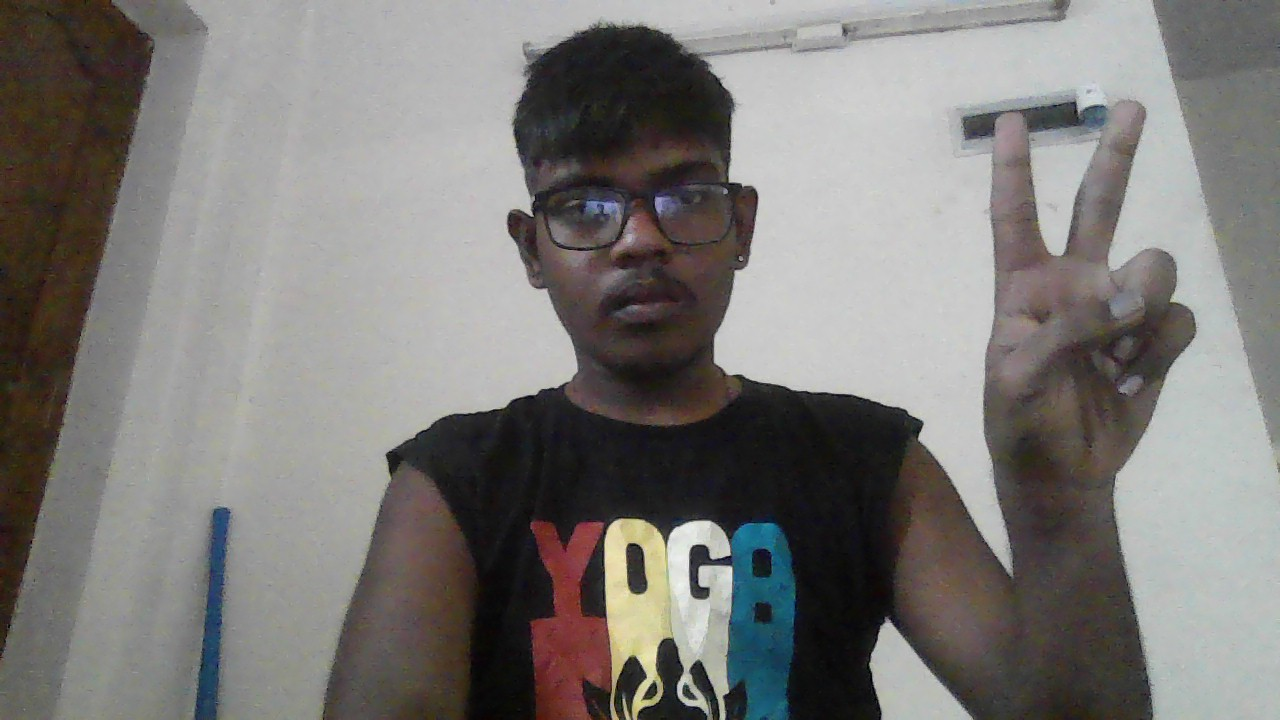V: (983, 101, 1196, 506)
